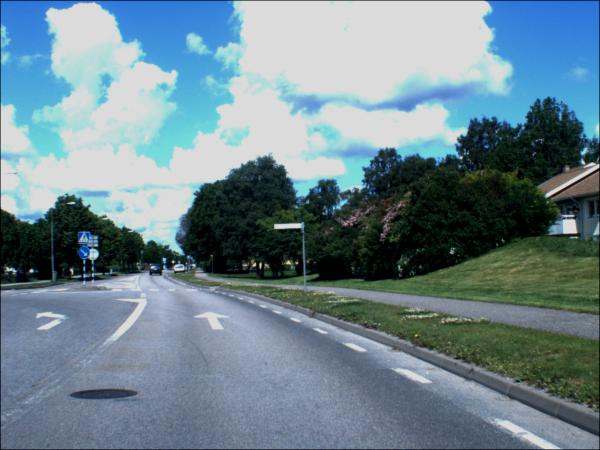PASS_RIGHT_SIDE: (79, 247, 92, 260), (165, 263, 167, 265)
PEDESTRIAN_CROSSING: (80, 233, 92, 245), (164, 259, 168, 263)
PRIORITY_ROAD: (172, 261, 177, 266)
